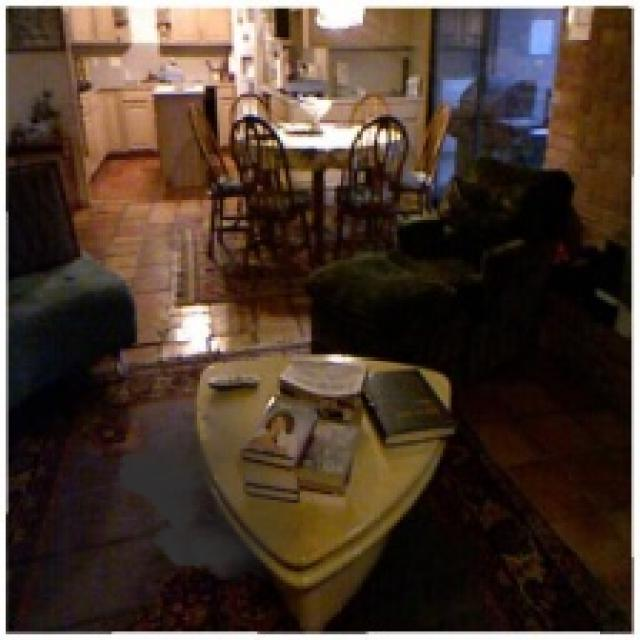smoke: (109, 386, 328, 586)
